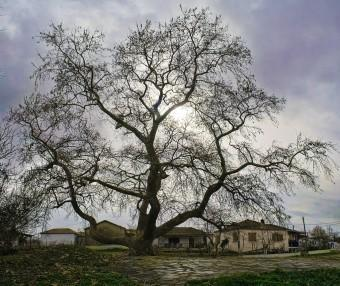tree: (6, 10, 326, 251)
